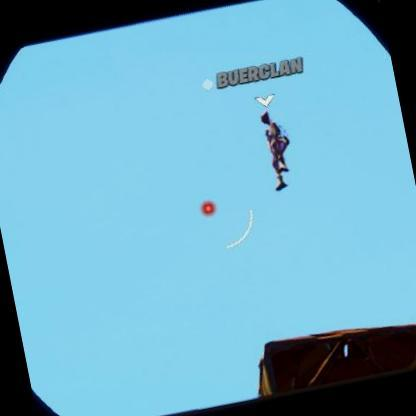person: (253, 106, 306, 188)
